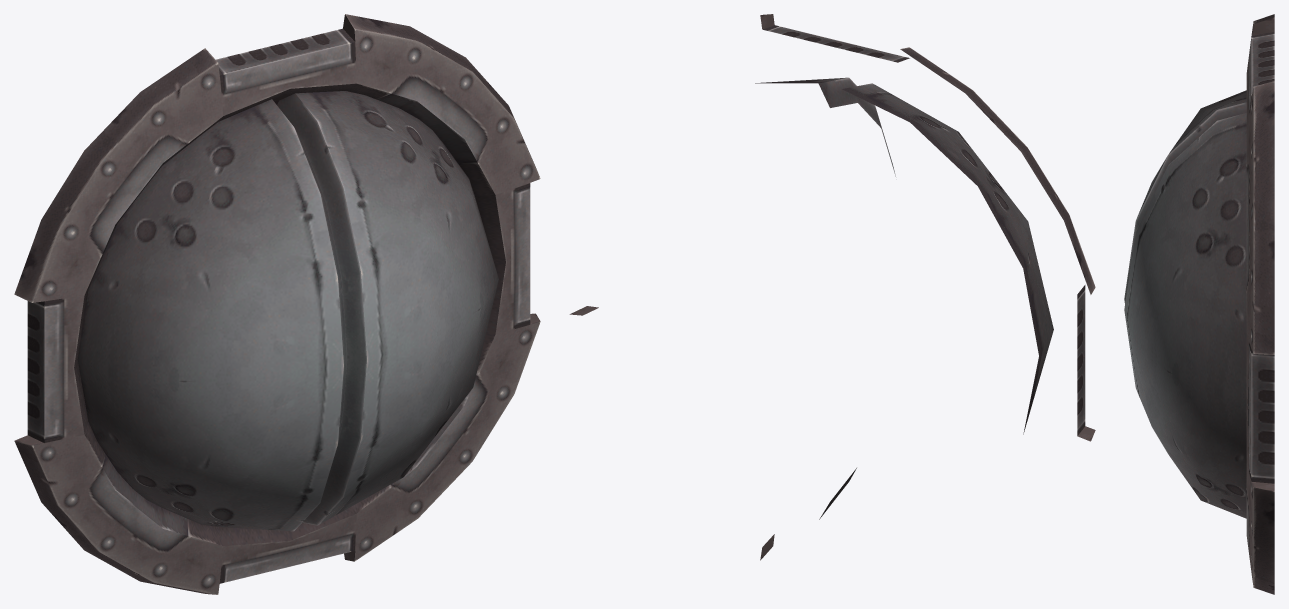
The model's file is activator_hatch.glb.
3 views of the same model, side by side, from view 1: azimuth 30°, elevation 25°; view 2: azimuth 150°, elevation 25°; view 3: azimuth 270°, elevation 25° (orthographic). The views are drawn at different scales.
Parts seen in each view (by area): view 1: parts.activator_hatch-MeshNodes["hatch"], parts.activator_hatch-MeshNodes["hatch_dome_left"], parts.activator_hatch-MeshNodes["hatch_dome_right"]; view 2: parts.activator_hatch-MeshNodes["hatch_dome_left"], parts.activator_hatch-MeshNodes["hatch"], parts.activator_hatch-MeshNodes["hatch_dome_right"]; view 3: parts.activator_hatch-MeshNodes["hatch_dome_right"], parts.activator_hatch-MeshNodes["hatch"], parts.activator_hatch-MeshNodes["hatch_dome_left"].
Boxes of the visible parts, x1=… form: parts.activator_hatch-MeshNodes["hatch"]: x1=14, y1=14, x2=540, y2=594; parts.activator_hatch-MeshNodes["hatch_dome_left"]: x1=77, y1=99, x2=347, y2=531; parts.activator_hatch-MeshNodes["hatch_dome_right"]: x1=277, y1=91, x2=498, y2=525; parts.activator_hatch-MeshNodes["hatch_dome_left"]: x1=842, y1=83, x2=1053, y2=434; parts.activator_hatch-MeshNodes["hatch"]: x1=569, y1=14, x2=1095, y2=560; parts.activator_hatch-MeshNodes["hatch_dome_right"]: x1=755, y1=77, x2=895, y2=519; parts.activator_hatch-MeshNodes["hatch_dome_right"]: x1=1124, y1=113, x2=1246, y2=518; parts.activator_hatch-MeshNodes["hatch"]: x1=1246, y1=14, x2=1274, y2=594; parts.activator_hatch-MeshNodes["hatch_dome_left"]: x1=1124, y1=90, x2=1246, y2=303.
Bounding box in the file's own units: 4.83 × 4.83 × 1.29.
1 material, 1 textured.
